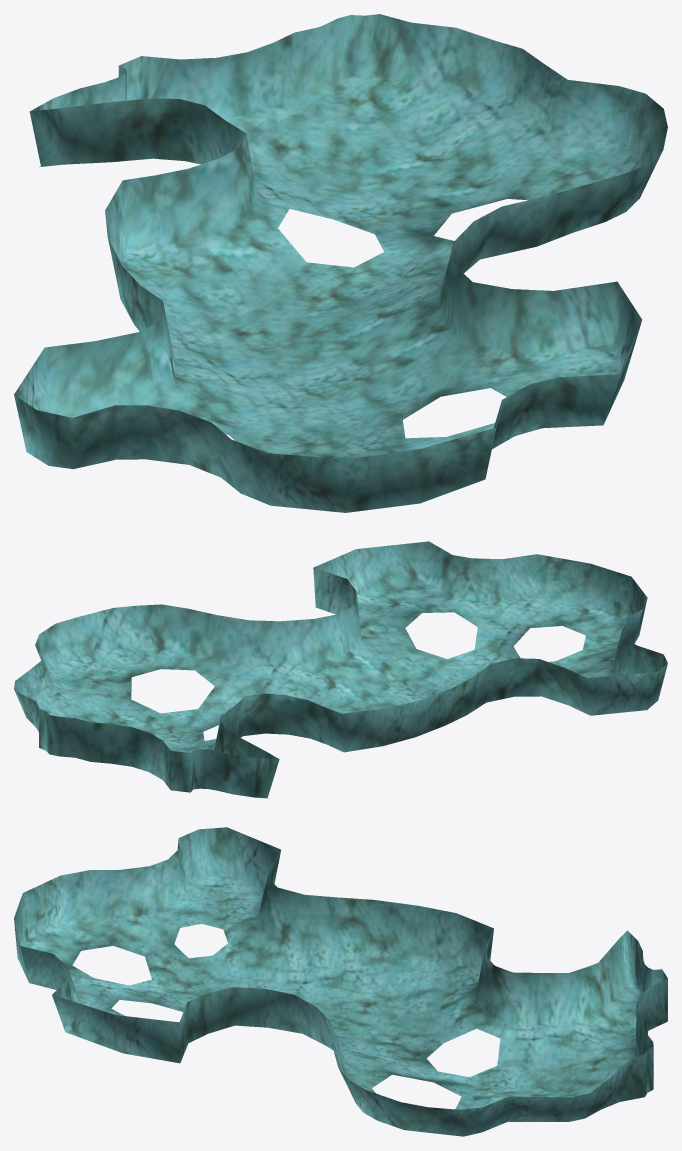
Rendered from EKH_THRONE_PS_TH_LAKE_BOTTOM_01.fbx.
The picture shows the model from 3 angles, top to bottom: view 1: azimuth 30°, elevation 25°; view 2: azimuth 150°, elevation 25°; view 3: azimuth 270°, elevation 25°; orthographic projection. The views are drawn at different scales.
Parts seen in each view (by area): view 1: EKH_THRONE_PS_TH_LAKE_BOTTOM_01; view 2: EKH_THRONE_PS_TH_LAKE_BOTTOM_01; view 3: EKH_THRONE_PS_TH_LAKE_BOTTOM_01.
Boxes of the visible parts, x1,y1,x2,y2 form: EKH_THRONE_PS_TH_LAKE_BOTTOM_01: (14,14,667,512); EKH_THRONE_PS_TH_LAKE_BOTTOM_01: (14,541,667,798); EKH_THRONE_PS_TH_LAKE_BOTTOM_01: (14,827,667,1136).
Size of the model in its own units: 226619 by 27797 by 230169.
1 material, 1 textured.
